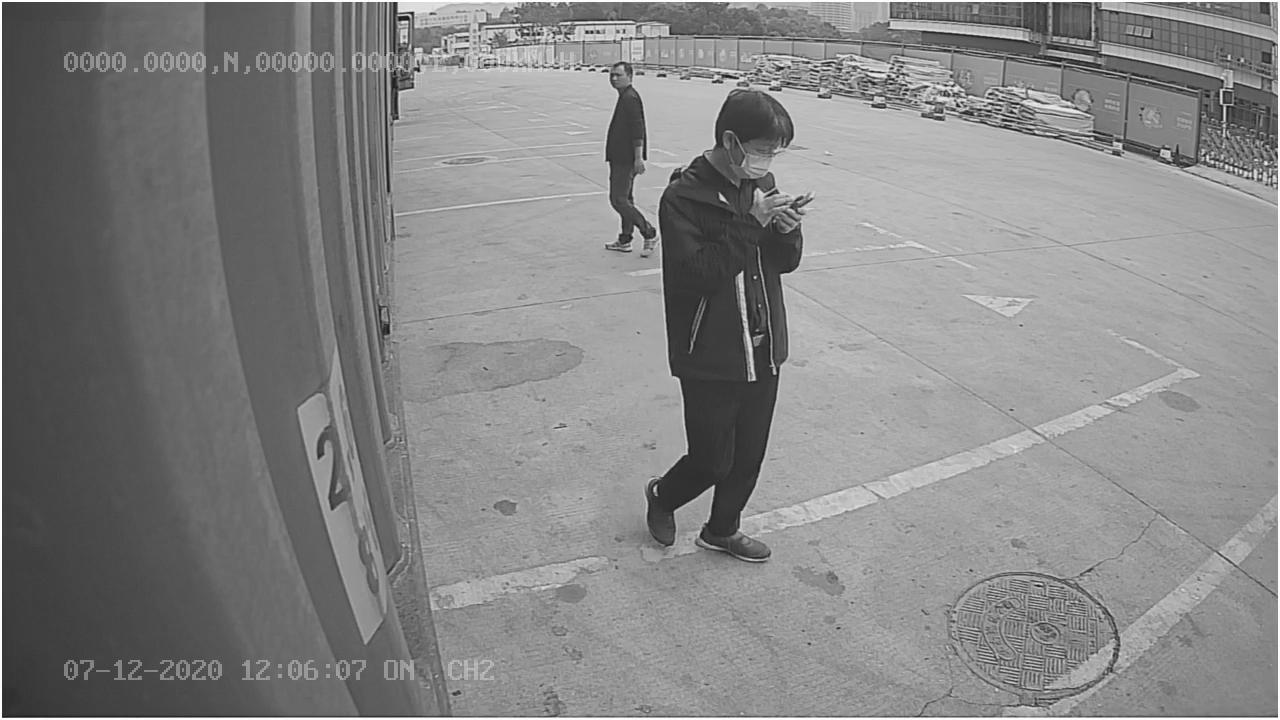person: (644, 85, 802, 567)
